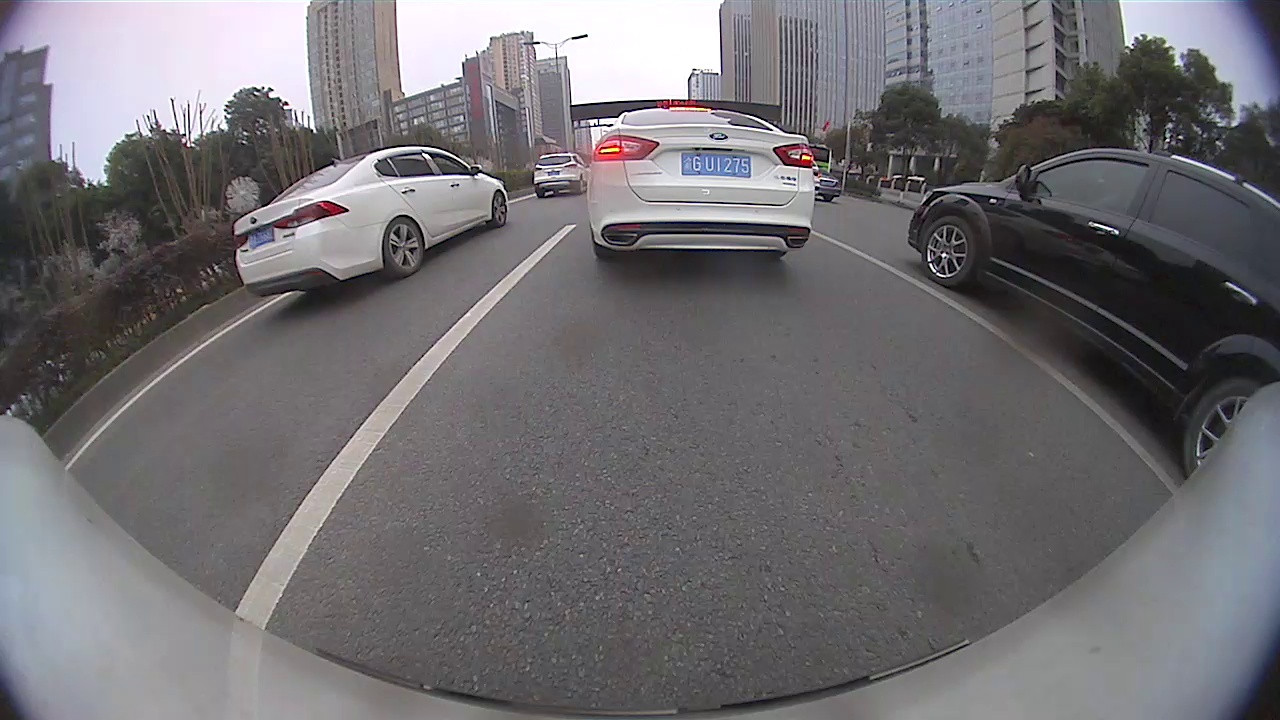car: (908, 149, 1278, 479), (232, 145, 508, 297), (586, 105, 816, 264), (533, 151, 590, 198), (815, 168, 841, 202)
front: (919, 215, 978, 287), (491, 190, 512, 229)
rear: (1179, 381, 1270, 482), (385, 217, 428, 276)
